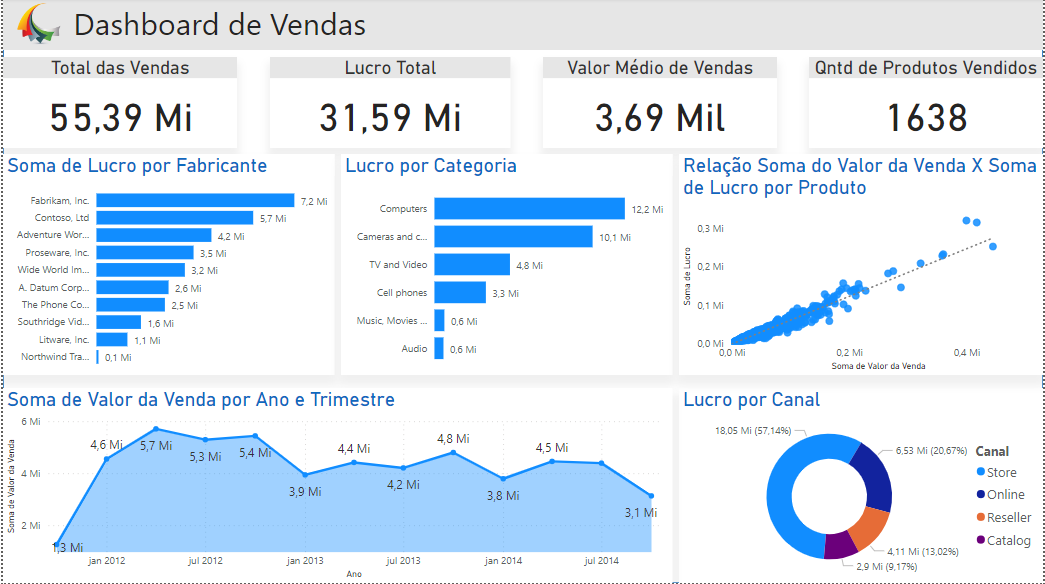

Layout of this report page (visuals, bound fields, positions):
{"tool":"powerbi","page":{"name":"Overview","canvas":[1280,720],"ordinal":0},"visuals":[{"type":"shape","box":[0,0,1280,64],"z":0},{"type":"shape","box":[0,72.6,288,112],"z":0,"group":"g1"},{"type":"shape","box":[328,72.6,296,112],"z":0,"group":"g2"},{"type":"shape","box":[664,72.6,288,112],"z":0,"group":"g4"},{"type":"shape","box":[992,72.6,288,112],"z":0,"group":"g3"},{"type":"textbox","box":[0,0,1280,64],"z":1000},{"type":"card","title":"Total das Vendas","fields":{"Values":["Sum(Data1.Valor da Venda)"]},"box":[0,72.6,288,112],"z":1000,"group":"g1"},{"type":"card","title":"Lucro Total","fields":{"Values":["Sum(Data1.Lucro)"]},"box":[328,72.6,296,112],"z":1000,"group":"g2"},{"type":"card","title":"Valor Médio de Vendas","fields":{"Values":["Avg(Data1.Valor da Venda)"]},"box":[664,72.6,288,112],"z":1000,"group":"g4"},{"type":"card","title":"Qntd de Produtos Vendidos","fields":{"Values":["Count(Data1.Produto)"]},"box":[992,72.6,288,112],"z":1000,"group":"g3"},{"type":"image","box":[0,0,88.7,64.2],"z":2000},{"type":"group","id":"g1","title":"Grupo 1","box":[0,72.6,288,112],"z":3000},{"type":"group","id":"g2","title":"Grupo 1","box":[328,72.6,296,112],"z":4000},{"type":"clusteredBarChart","title":"TOP 5 Fabricantes por Lucro ","fields":{"Category":["Data1.Fabricante"],"Y":["Sum(Data1.Lucro)"]},"box":[0,192,408,272],"z":5000},{"type":"group","id":"g3","title":"Grupo 1","box":[992,72.6,288,112],"z":6000},{"type":"group","id":"g4","title":"Grupo 1","box":[664,72.6,288,112],"z":7000},{"type":"donutChart","title":"Lucro por Canal","fields":{"Y":["Sum(Data1.Lucro)"],"Category":["Data1.Canal"]},"box":[832,480,448,240],"z":8000},{"type":"clusteredBarChart","title":"Lucro por Categoria","fields":{"Category":["Data1.Categoria"],"Y":["Sum(Data1.Lucro)"]},"box":[416,192,408,272],"z":9000},{"type":"areaChart","title":"Soma do Valor da Venda por Ano e Trimestre","fields":{"Category":["Data1.Data Venda.Variation.Hierarquia de datas.Ano","Data1.Data Venda.Variation.Hierarquia de datas.Trimestre"],"Y":["Sum(Data1.Valor da Venda)"]},"box":[0,480,824,240],"z":10000},{"type":"scatterChart","title":"Relação Valor de Venda por Lucro de Subcategoria","fields":{"Y":["Sum(Data1.Lucro)"],"X":["Sum(Data1.Valor da Venda)"],"Category":["Data1.Subcategoria"],"Series":["Data1.Subcategoria"]},"box":[832,192,448,272],"z":11000},{"type":"slicer","fields":{"Values":["Data1.Continente","Data1.Cidade"]},"box":[992,0,288,64],"z":12000},{"type":"slicer","title":"Filtre o Intervalo de Tempo","fields":{"Values":["Data1.Data Venda"]},"box":[694.4,1.2,225.8,63.5],"z":12001}]}

Visuals, with their boxes in screenshot pixels (x1, y1, x2, y2), scaled from the page's 1280x720 canvas onto the 1045x584 screenshot:
shape: (left=0, top=0, right=1044, bottom=52)
shape: (left=0, top=59, right=235, bottom=150)
shape: (left=268, top=59, right=509, bottom=150)
shape: (left=542, top=59, right=777, bottom=150)
shape: (left=810, top=59, right=1044, bottom=150)
textbox: (left=0, top=0, right=1044, bottom=52)
"Total das Vendas" card: (left=0, top=59, right=235, bottom=150)
"Lucro Total" card: (left=268, top=59, right=509, bottom=150)
"Valor Médio de Vendas" card: (left=542, top=59, right=777, bottom=150)
"Qntd de Produtos Vendidos" card: (left=810, top=59, right=1044, bottom=150)
image: (left=0, top=0, right=72, bottom=52)
"Grupo 1" group: (left=0, top=59, right=235, bottom=150)
"Grupo 1" group: (left=268, top=59, right=509, bottom=150)
"TOP 5 Fabricantes por Lucro " clusteredBarChart: (left=0, top=156, right=333, bottom=376)
"Grupo 1" group: (left=810, top=59, right=1044, bottom=150)
"Grupo 1" group: (left=542, top=59, right=777, bottom=150)
"Lucro por Canal" donutChart: (left=679, top=389, right=1044, bottom=583)
"Lucro por Categoria" clusteredBarChart: (left=340, top=156, right=673, bottom=376)
"Soma do Valor da Venda por Ano e Trimestre" areaChart: (left=0, top=389, right=673, bottom=583)
"Relação Valor de Venda por Lucro de Subcategoria" scatterChart: (left=679, top=156, right=1044, bottom=376)
slicer - Data1.Continente x Data1.Cidade: (left=810, top=0, right=1044, bottom=52)
"Filtre o Intervalo de Tempo" slicer: (left=567, top=1, right=751, bottom=52)
